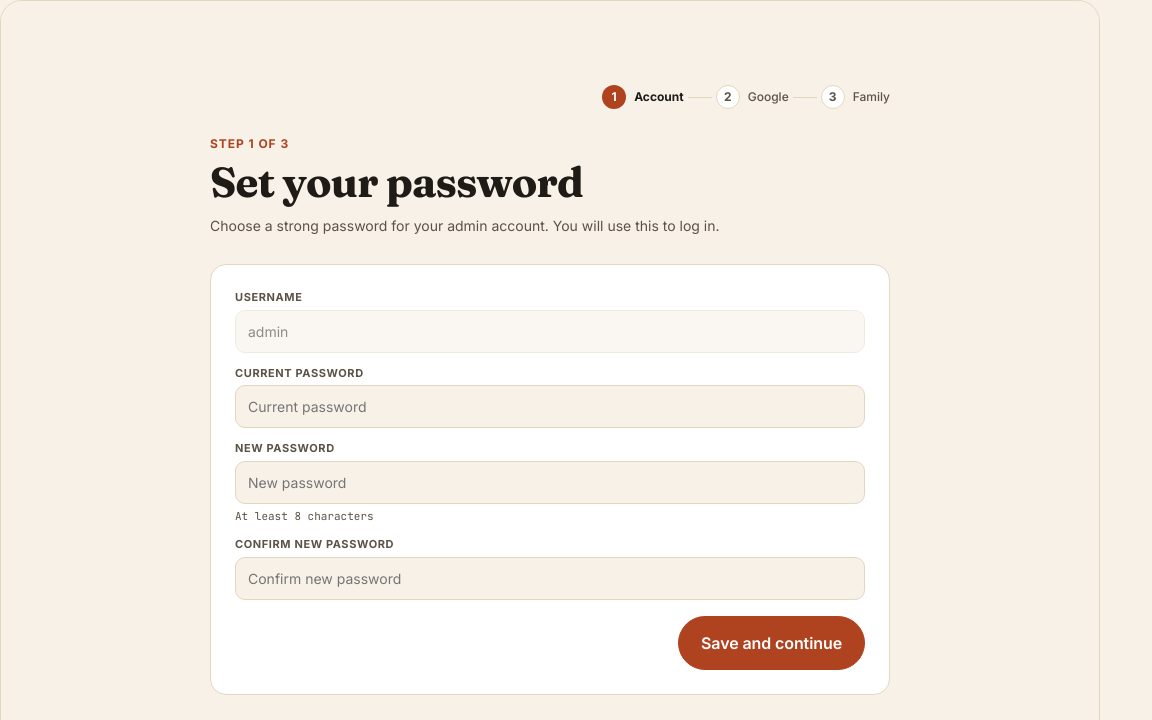
Setup (wizard step 1) › server returns 400 "must differ" → shows inline error
Expected: the button "Save and continue" is shown, [678, 616, 865, 670]
Type "samepassword" into the password field with placeholder "Current password" at (550, 407), box [235, 385, 865, 428]
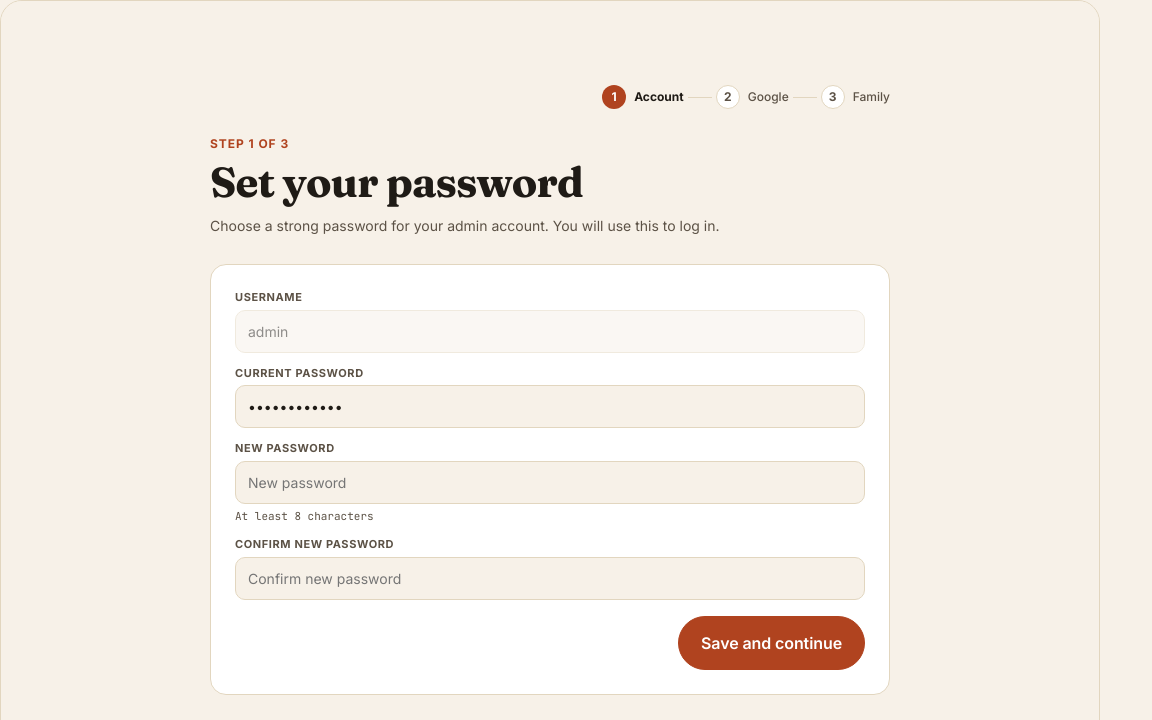
Type "samepassword" into the password field with placeholder "New password" at (550, 482), box [235, 461, 865, 504]
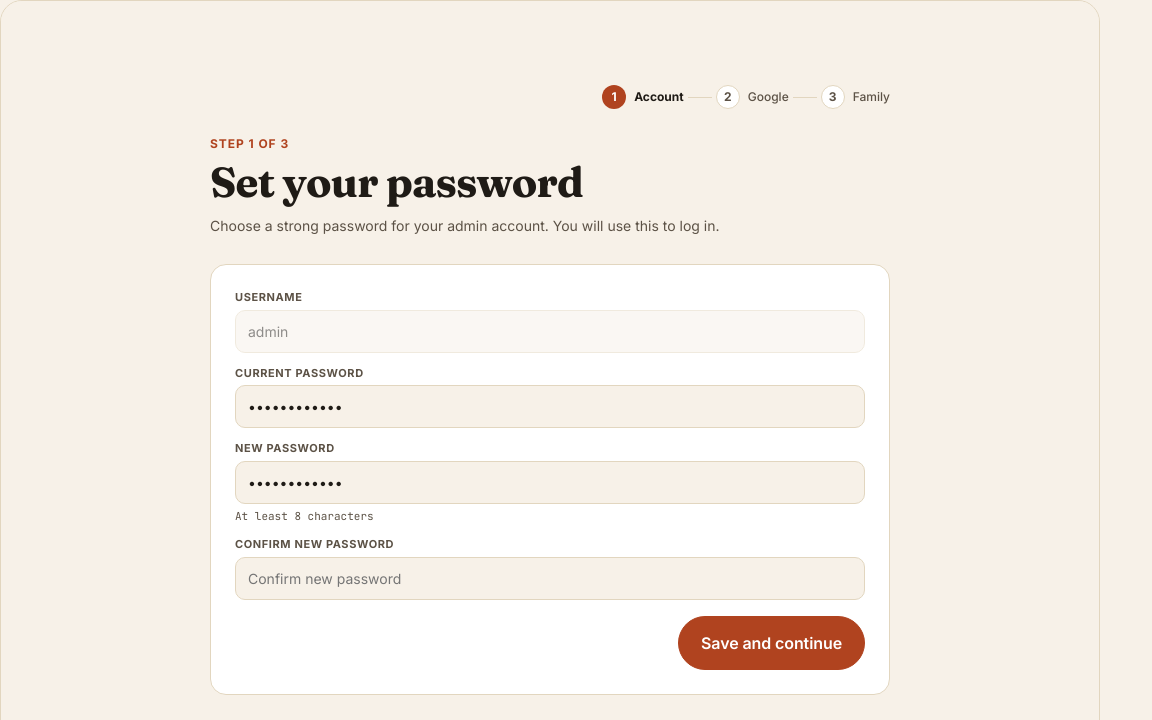
Type "samepassword" into the password field with placeholder "Confirm new password" at (550, 578), box [235, 557, 865, 600]
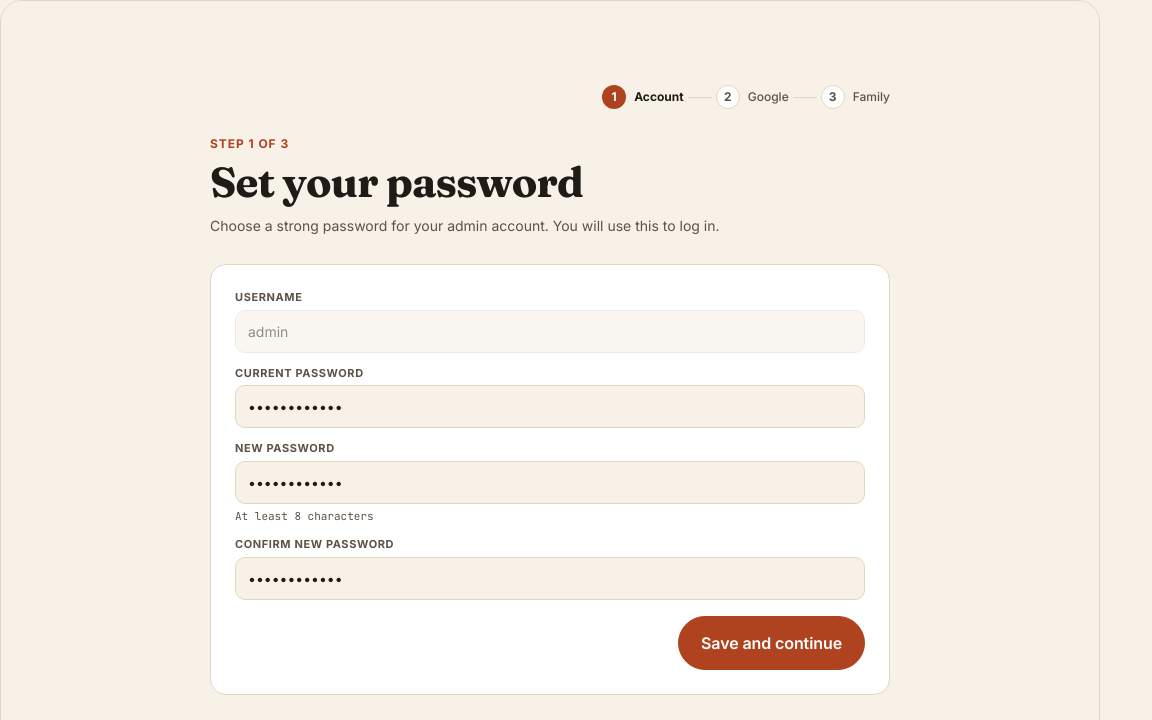
Click the button "Save and continue" at (772, 643), box [678, 616, 865, 670]
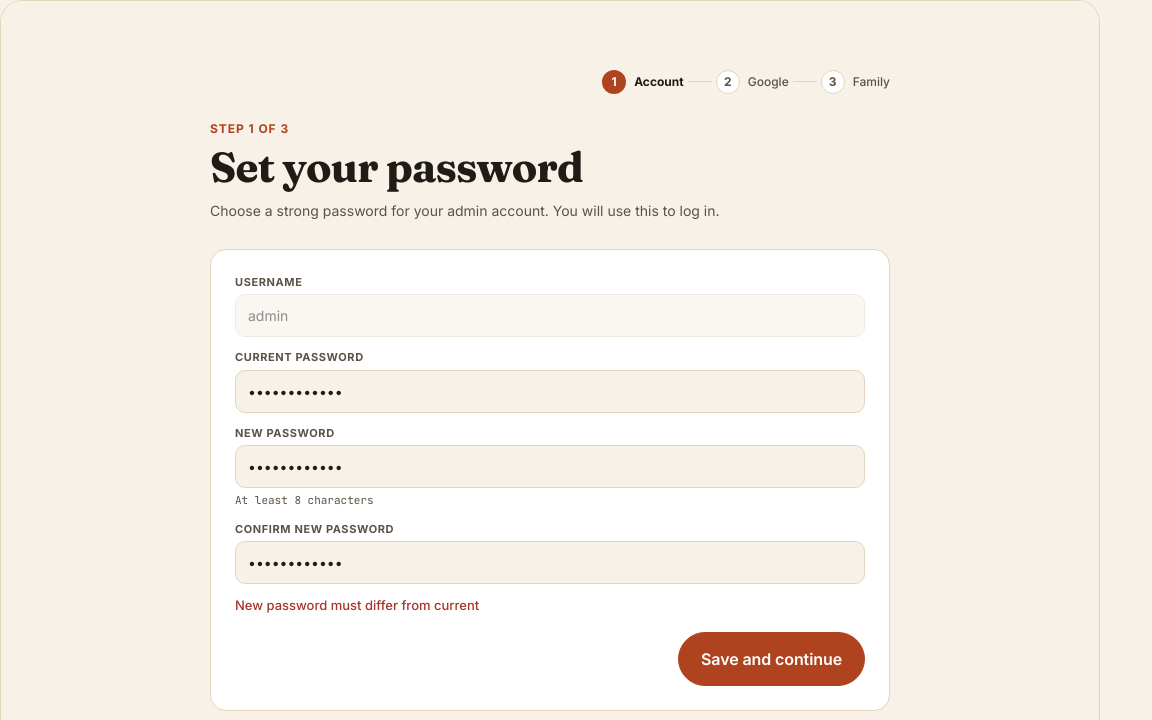
Now the text "New password must differ from current" is shown, box [235, 597, 479, 613]
